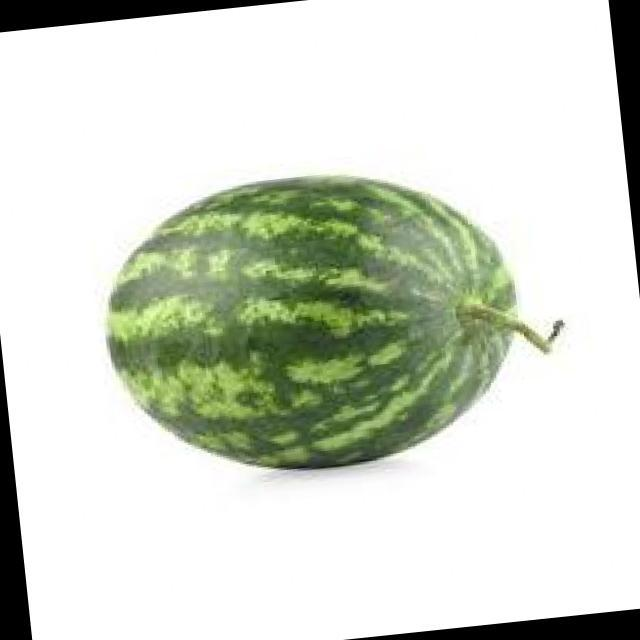watermelon: (102, 172, 528, 473)
